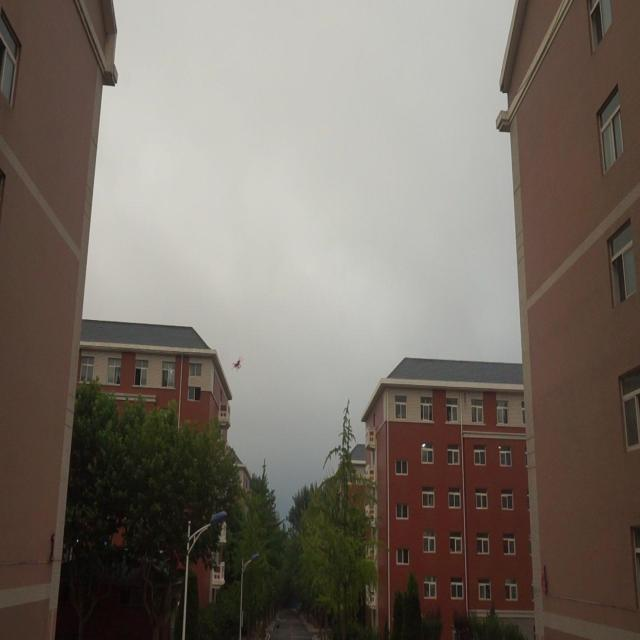drone: (231, 353, 244, 375)
